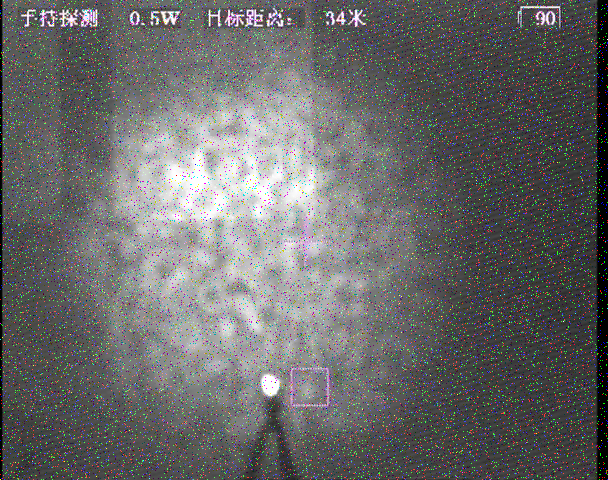my: (258, 373, 282, 397)
